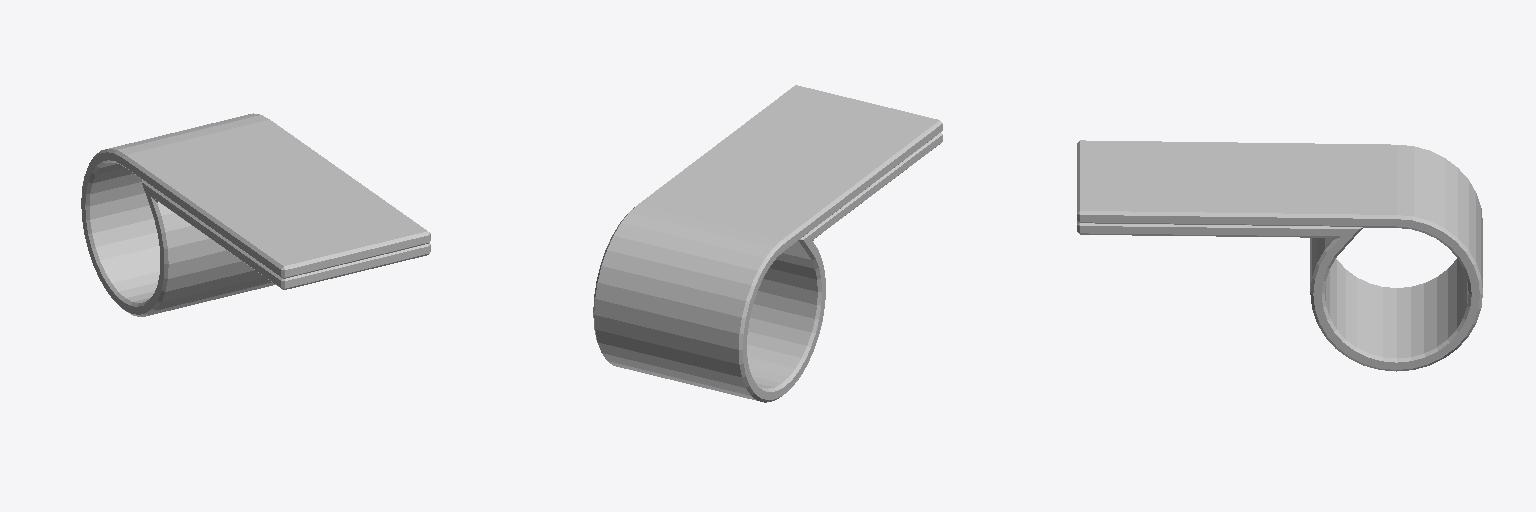
Rendered from Schelle.obj.
3 views of the same model, side by side, from view 1: azimuth 30°, elevation 25°; view 2: azimuth 150°, elevation 25°; view 3: azimuth 270°, elevation 25° (orthographic).
Visible parts, largest first — view 1: Schelle_Cylinder; view 2: Schelle_Cylinder; view 3: Schelle_Cylinder.
Part boxes in pixels (left/top/right/bottom): Schelle_Cylinder: left=81, top=113, right=430, bottom=316; Schelle_Cylinder: left=593, top=85, right=942, bottom=402; Schelle_Cylinder: left=1077, top=140, right=1482, bottom=371.
Size of the model in its own units: 0.0085 by 0.0087 by 0.0199.